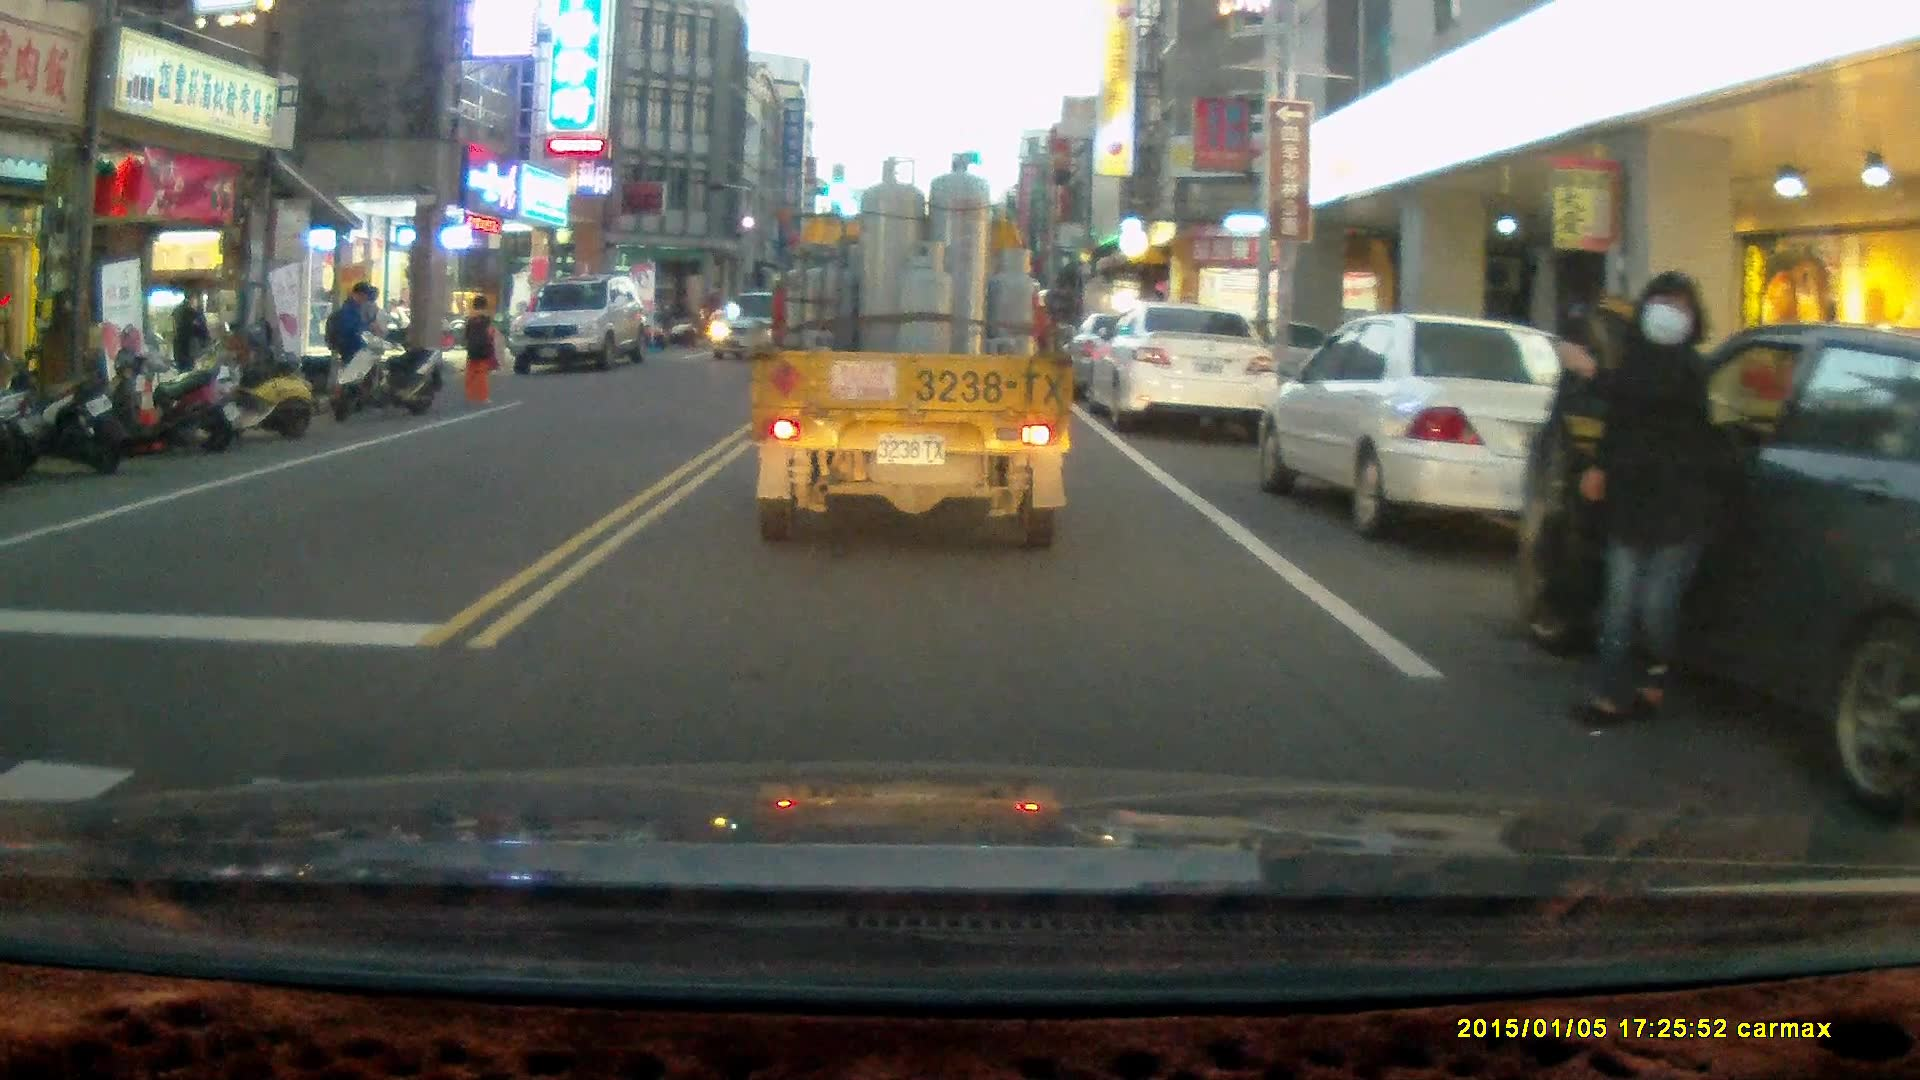pedestrian: (1559, 271, 1720, 728), (321, 280, 374, 409), (170, 285, 213, 419), (461, 292, 501, 407)
vehicle: (1513, 318, 1920, 787), (744, 149, 1079, 551), (1252, 315, 1634, 540), (1088, 304, 1280, 431), (510, 278, 653, 374), (707, 290, 791, 364)
